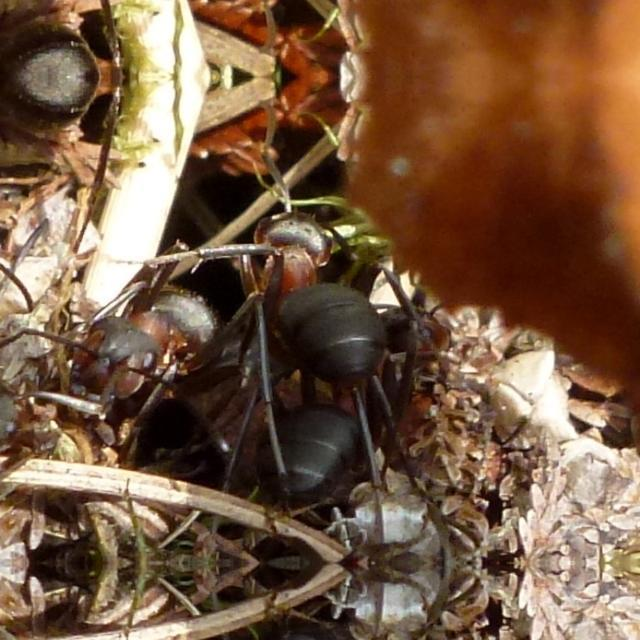Formica: (236, 205, 432, 391), (54, 252, 230, 440), (235, 344, 387, 514)
